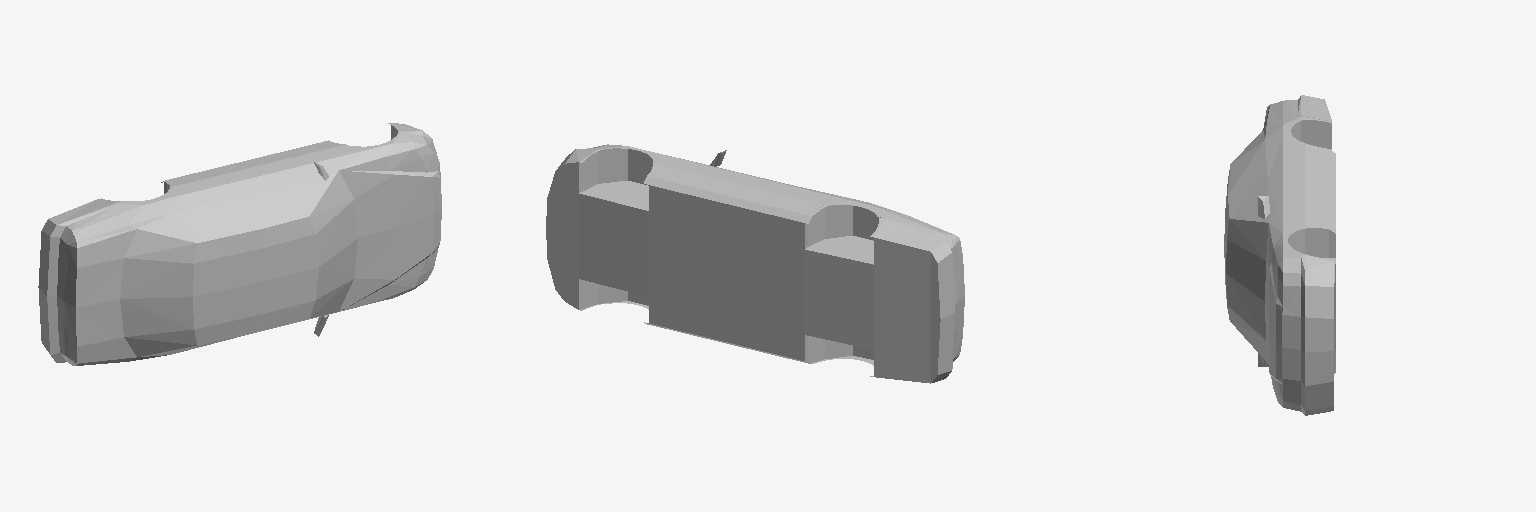
Rendered from celsior_body2.obj.
3 views of the same model, side by side, from view 1: azimuth 30°, elevation 25°; view 2: azimuth 150°, elevation 25°; view 3: azimuth 270°, elevation 25° (orthographic).
Parts seen in each view (by area): view 1: celsior.046; view 2: celsior.046; view 3: celsior.046.
Boxes of the visible parts, x1=… form: celsior.046: x1=38, y1=123, x2=441, y2=365; celsior.046: x1=546, y1=144, x2=964, y2=383; celsior.046: x1=1224, y1=95, x2=1335, y2=415.
Size of the model in its own units: 7.88 by 3.25 by 1.92.